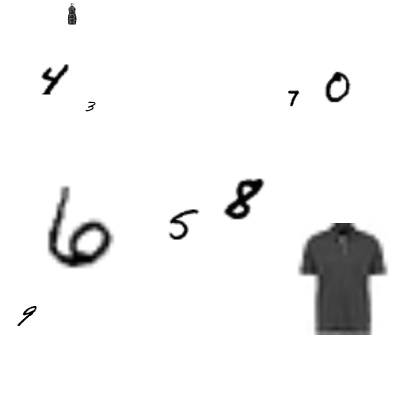0: (316, 66, 358, 108)
3: (84, 99, 98, 113)
4: (31, 57, 73, 99)
5: (160, 202, 202, 244)
6: (21, 183, 133, 295)
7: (282, 85, 304, 107)
8: (214, 169, 270, 225)
9: (13, 300, 41, 328)
Dress: (61, 3, 83, 25)
T-shirt/top: (287, 223, 399, 335)
